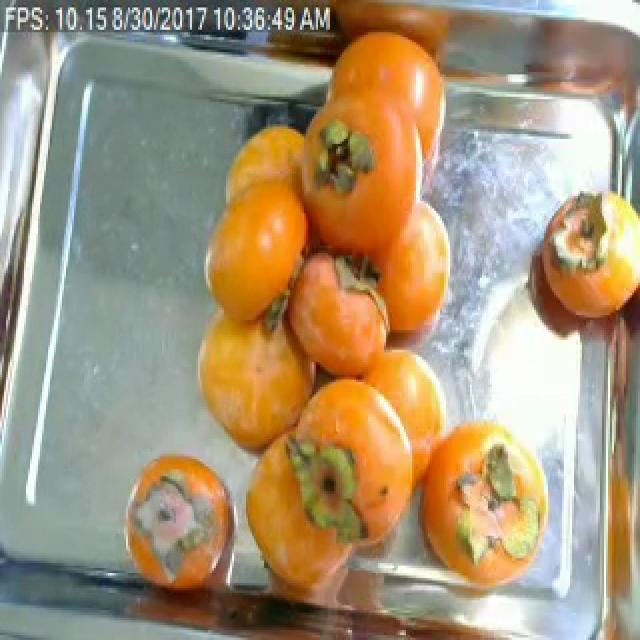Fruit: (110, 439, 238, 610), (534, 174, 640, 332)
